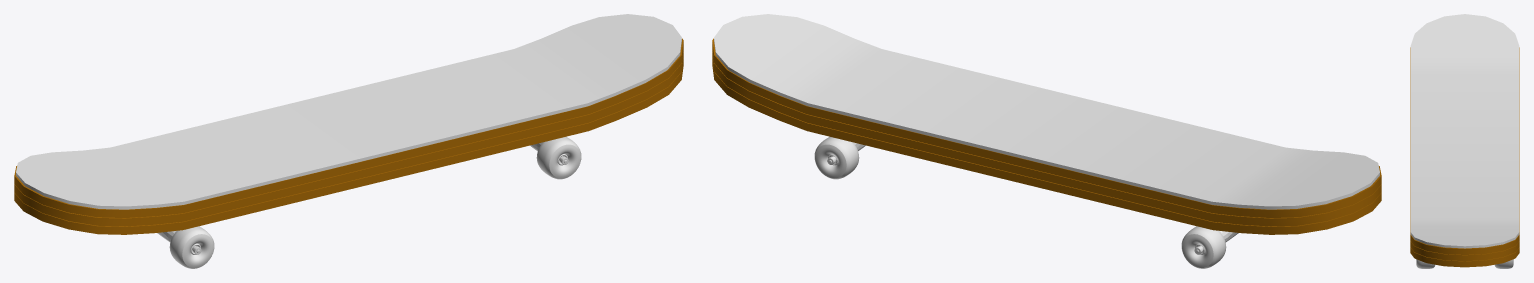
File: Toy Board.fbx
The picture shows the model from 3 angles, left to right: view 1: azimuth 30°, elevation 25°; view 2: azimuth 150°, elevation 25°; view 3: azimuth 270°, elevation 25°; orthographic projection. The views are drawn at different scales.
Parts seen in each view (by area): view 1: Board_1, Board_2, Cylinder; view 2: Board_1, Board_2, Cylinder; view 3: Board_1, Board_2, Cylinder.
Part boxes in pixels (x1,y1,x2,y2): Board_1: (16,14,681,209); Board_2: (14,38,683,234); Cylinder: (169,137,581,268); Board_1: (714,14,1379,209); Board_2: (712,38,1381,234); Cylinder: (814,137,1226,268); Board_1: (1410,14,1519,248); Board_2: (1410,47,1519,267); Cylinder: (1416,259,1513,268).
Size of the model in its own units: 412 by 58.99 by 81.5.
